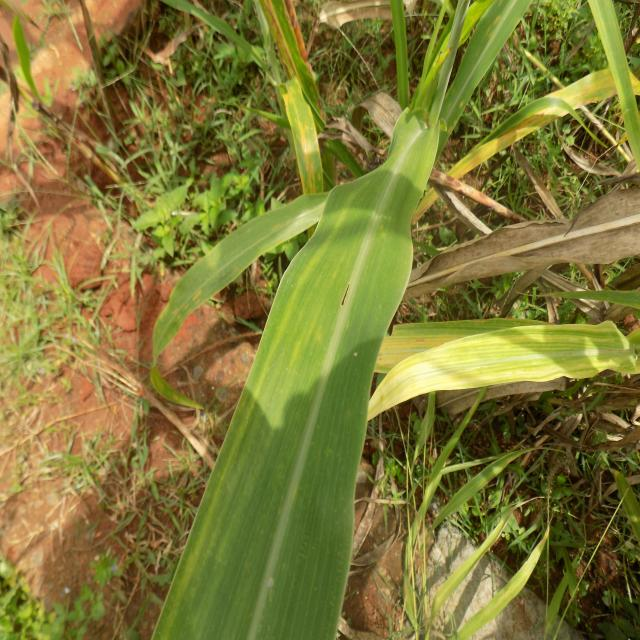millet_healthy: (154, 108, 440, 640), (143, 187, 414, 409), (368, 321, 639, 419), (404, 0, 540, 148), (298, 406, 312, 421)
millet_rust: (408, 60, 638, 235), (388, 184, 640, 314), (353, 91, 527, 266), (246, 0, 345, 177)
